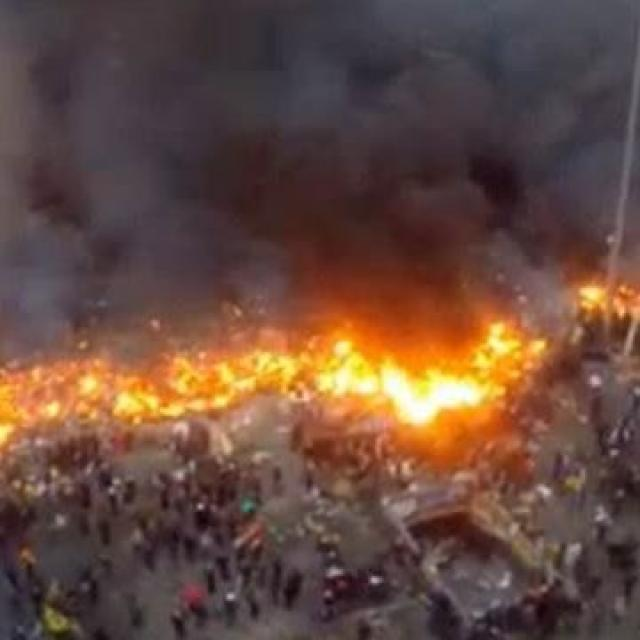Fire: (4, 339, 535, 442)
Smoke: (37, 22, 597, 346)
